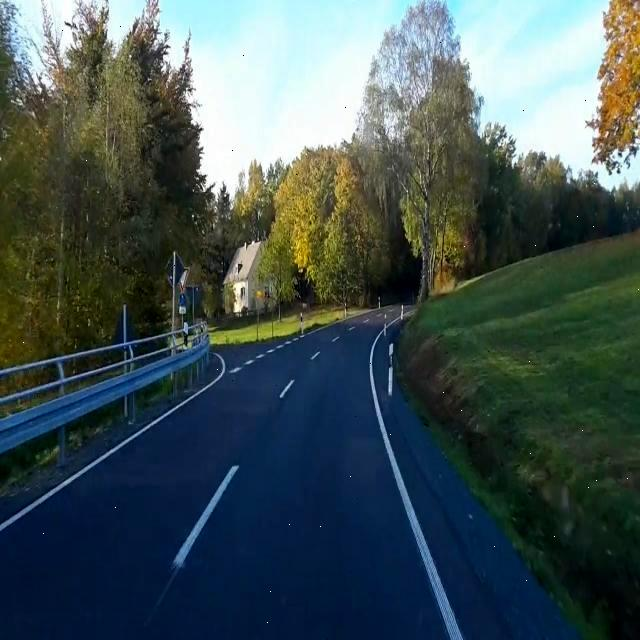lane: (0, 352, 223, 530), (371, 328, 463, 639), (279, 380, 293, 397)
road: (5, 311, 447, 639), (376, 331, 579, 639)
